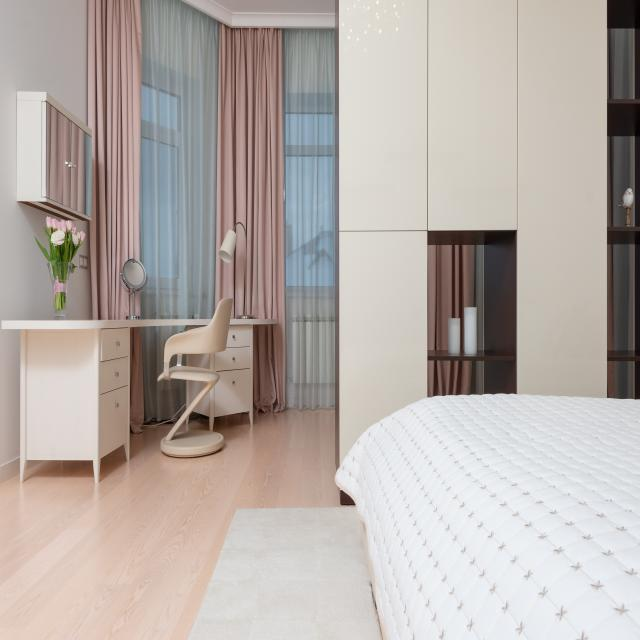floor: (0, 408, 356, 640)
wall: (339, 0, 607, 467), (17, 92, 46, 202), (66, 220, 93, 320), (78, 254, 88, 269)
